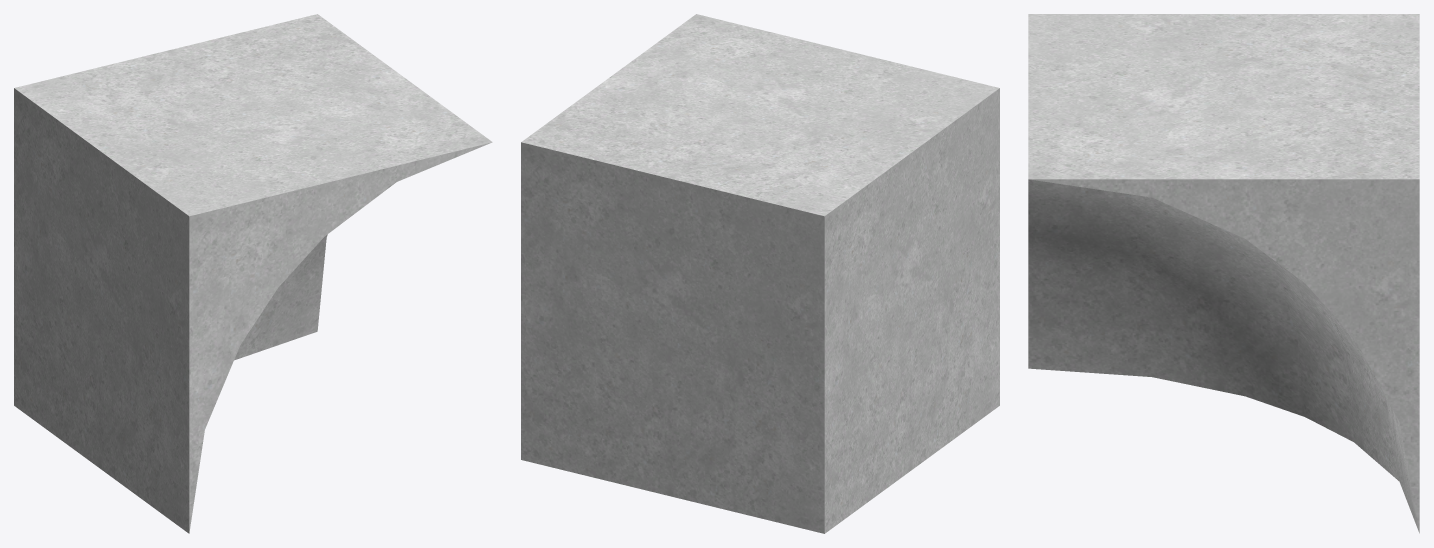
File: cornerroundwedge2.obj
The picture shows the model from 3 angles, left to right: view 1: azimuth 30°, elevation 25°; view 2: azimuth 150°, elevation 25°; view 3: azimuth 270°, elevation 25°; orthographic projection. The views are drawn at different scales.
Parts seen in each view (by area): view 1: Cornerroundwedge21; view 2: Cornerroundwedge21; view 3: Cornerroundwedge21.
Boxes of the visible parts, box(x1,y1,x2,y2) form: Cornerroundwedge21: box(14, 14, 492, 533); Cornerroundwedge21: box(521, 14, 999, 533); Cornerroundwedge21: box(1028, 14, 1419, 533).
Size of the model in its own units: 2 by 2 by 2.
Materials: 1 (1 with a texture image).
